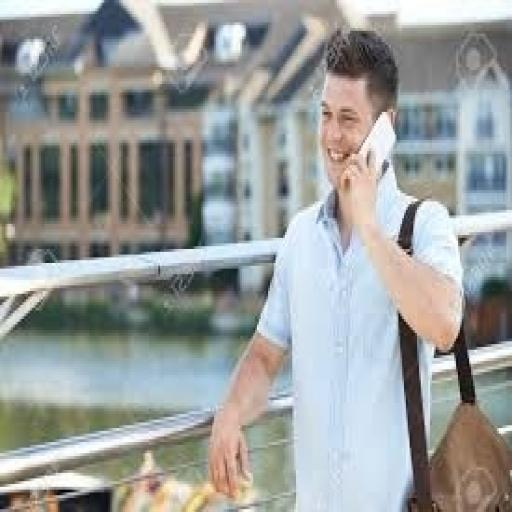calling: (205, 25, 465, 509)
